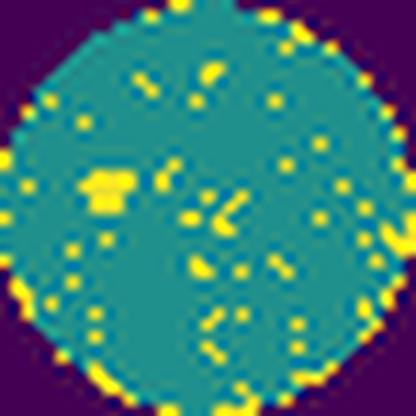Loc: (76, 167, 137, 214)
